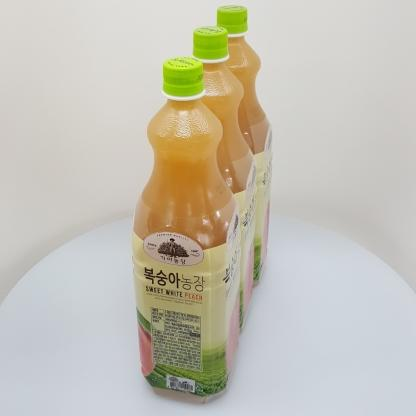-------1-5L: (131, 57, 241, 404)
